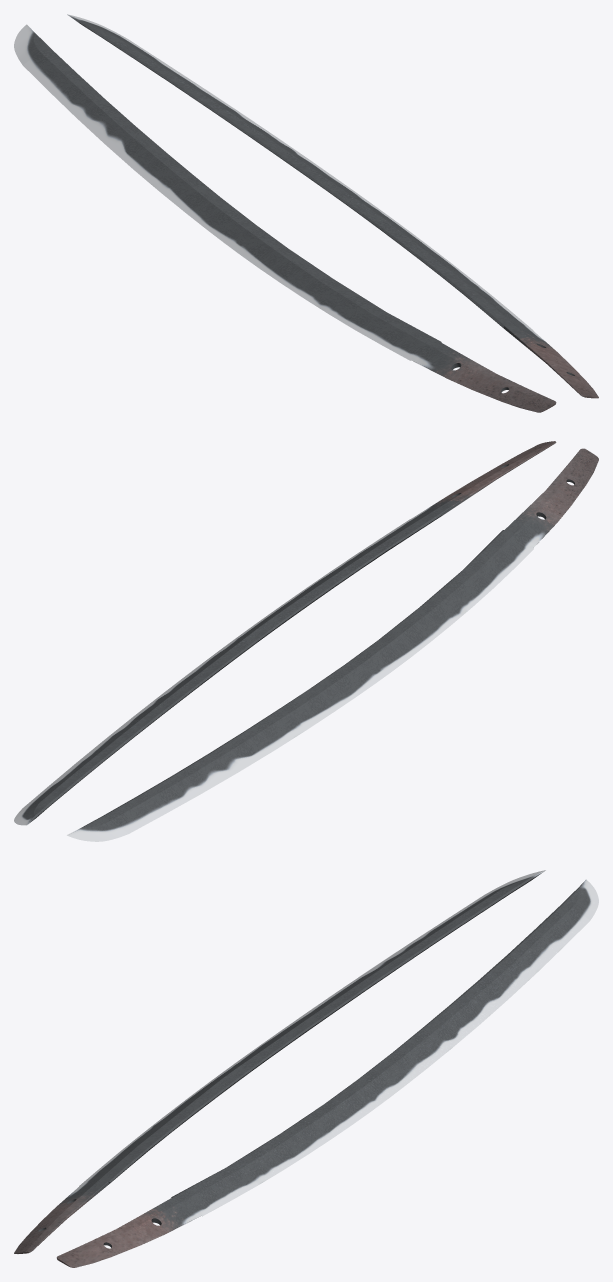
Rendered from webvrkatana4.gltf.
3 views of the same model, one above another, from view 1: azimuth 30°, elevation 25°; view 2: azimuth 150°, elevation 25°; view 3: azimuth 330°, elevation 25° (orthographic).
Parts seen in each view (by area): view 1: tousin.002; view 2: tousin.002; view 3: tousin.002.
Part boxes in pixels (<box>): tousin.002: <box>14,14,598,412</box>; tousin.002: <box>14,441,598,841</box>; tousin.002: <box>14,870,598,1267</box>.
Bounding box in the file's own units: 23.68 × 3.48 × 142.
1 material, 1 textured.
